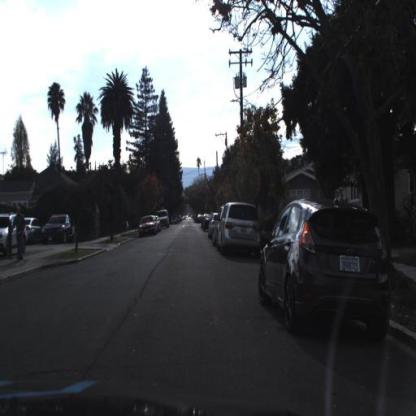car: (258, 186, 394, 345), (215, 203, 261, 254), (41, 212, 76, 244), (19, 209, 43, 245), (212, 207, 223, 248), (139, 215, 157, 238), (208, 214, 219, 241), (157, 208, 169, 228)
